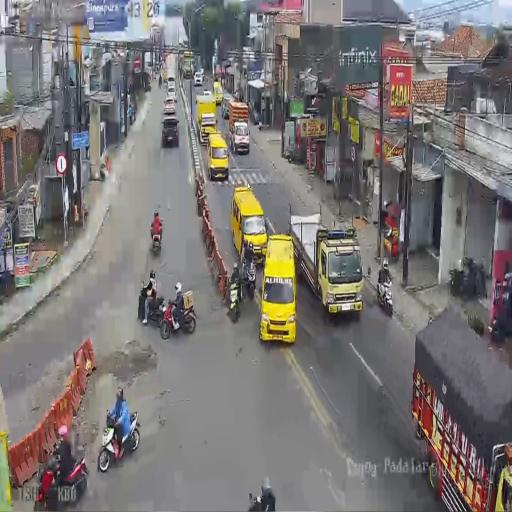3: (196, 92, 217, 146), (182, 56, 194, 80), (144, 51, 153, 74)
car: (258, 235, 296, 343), (231, 183, 266, 264), (490, 272, 512, 338), (206, 132, 229, 181), (230, 119, 250, 155), (162, 115, 180, 146), (213, 81, 223, 108), (163, 96, 176, 115), (221, 96, 230, 120), (166, 75, 176, 95), (194, 70, 204, 86), (163, 70, 167, 82)
truck: (36, 443, 88, 511), (98, 407, 140, 470), (160, 292, 196, 339), (377, 268, 393, 317), (229, 273, 244, 323), (150, 220, 162, 254), (128, 103, 135, 125)
